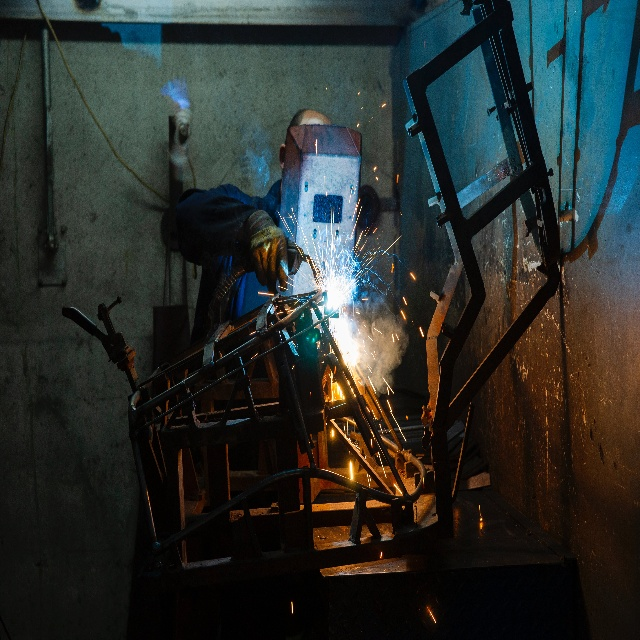Guantes: (245, 209, 304, 293)
